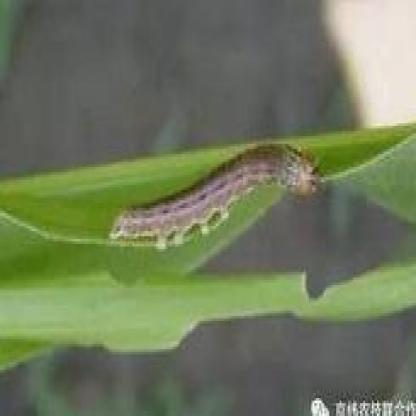armyworm: (110, 140, 326, 246)
